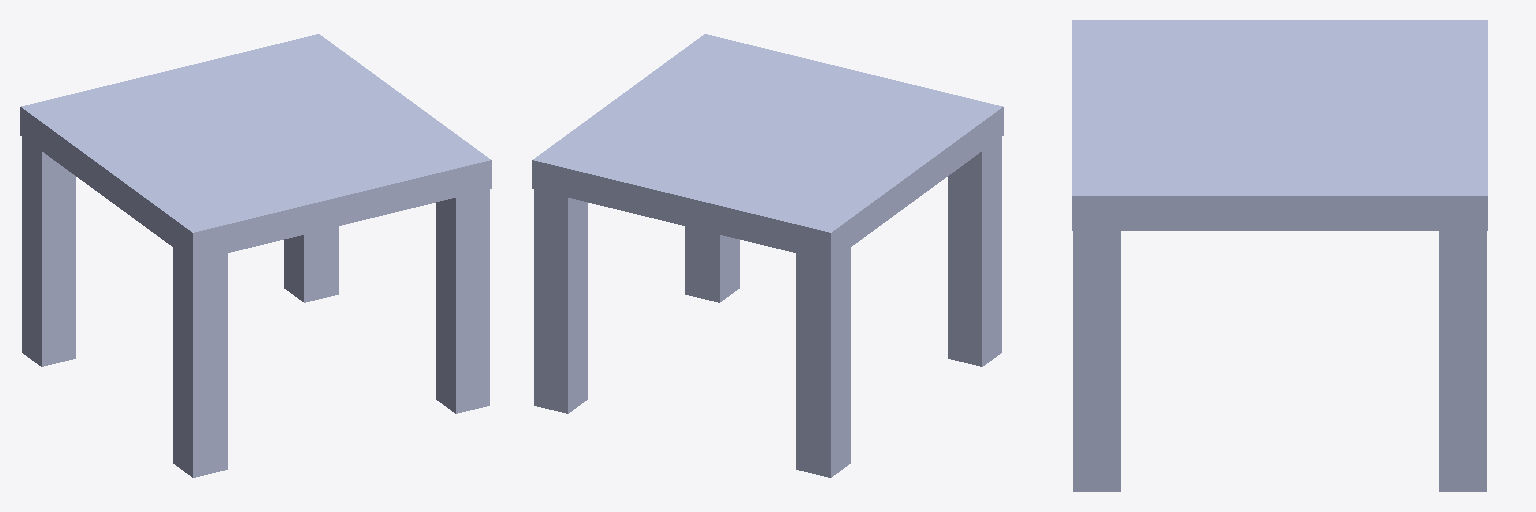
URDF robot description (lack_ikea):
<robot
  name="lack_ikea">
  <link
    name="lack_ikea">
    <inertial>
      <origin
        xyz="-1.918E-16 -2.22817126077982E-18 -0.03639"
        rpy="0 0 0" />
      <mass
        value="21.472" />
      <inertia
        ixx="1.02824628163717"
        ixy="4.06575814682064E-17"
        ixz="3.29483968808317E-16"
        iyy="1.02824628163718"
        iyz="1.19893790189897E-16"
        izz="1.49230122954338" />
    </inertial>
    <visual>
      <origin
        xyz="0 0 0"
        rpy="0 0 0" />
      <geometry>
        <mesh
          filename="package://lack_ikea/meshes/lack_ikea.dae" />
      </geometry>
      <material
        name="">
        <color
          rgba="0.79216 0.81961 0.93333 1" />
      </material>
    </visual>
    <collision>
      <origin
        xyz="0 0 0"
        rpy="0 0 0" />
      <geometry>
        <mesh
          filename="package://lack_ikea/meshes/lack_ikea.dae" />
      </geometry>
    </collision>
  </link>
</robot>

--- What the picture shows (computed from the rendered views, not written in the file) ---
3 views of the same robot in one strip: view 1: azimuth 30°, elevation 25°; view 2: azimuth 150°, elevation 25°; view 3: azimuth 270°, elevation 25° (orthographic).
Robot: lack_ikea — 1 links, 0 joints (none); root link lack_ikea; default pose: every joint at zero.
Visible links, largest first — view 1: lack_ikea; view 2: lack_ikea; view 3: lack_ikea.
Link boxes in pixels (x1,y1,x2,y2): lack_ikea: (20,34,491,477); lack_ikea: (532,34,1003,477); lack_ikea: (1072,20,1487,491).
Size in the robot's own frame: 0.5493 by 0.5493 by 0.4318 metres.
Meshes: 1 distinct files referenced, 1 mesh visuals loaded (1 Collada DAE).